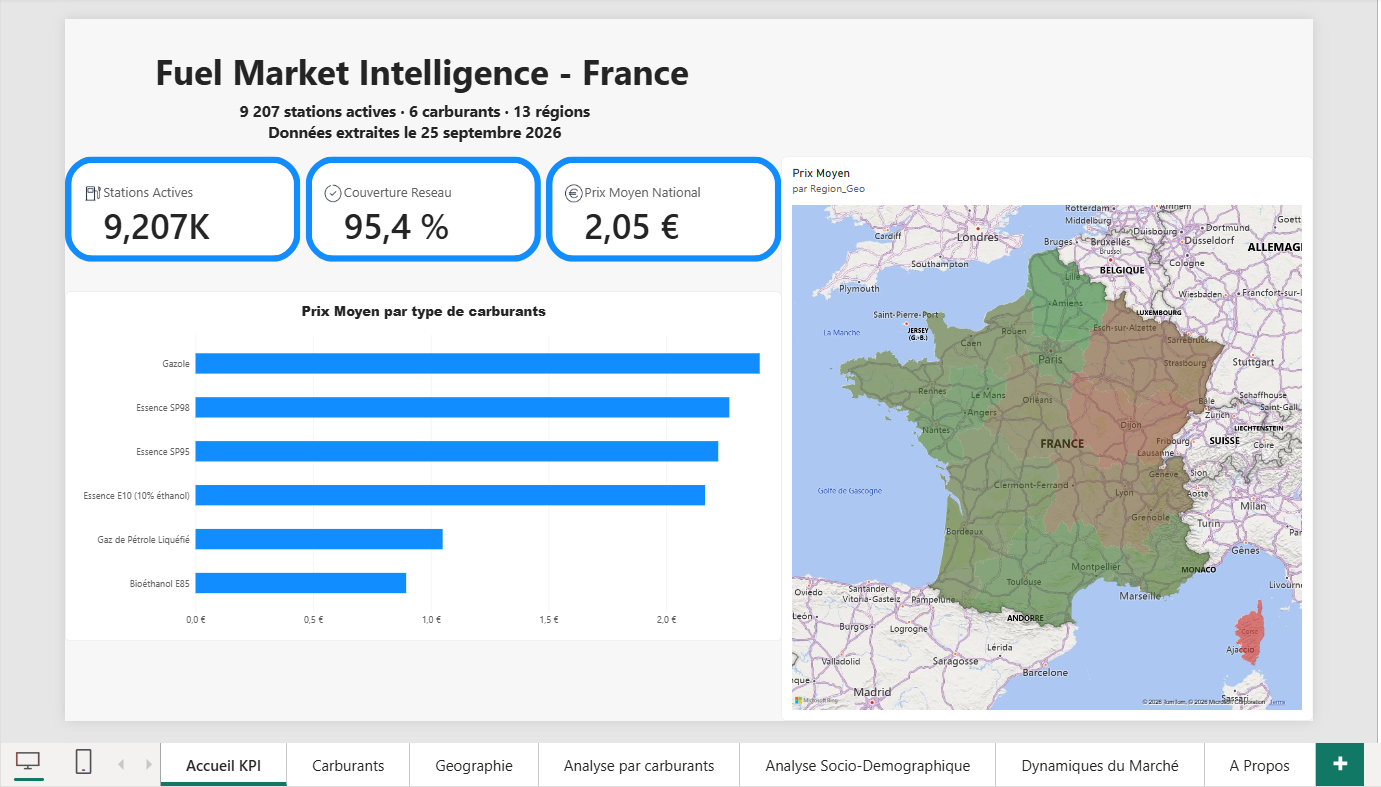

The dashboard page shown, as its layout file describes it:
{"tool":"powerbi","page":{"name":"Accueil KPI","canvas":[1920,1080],"ordinal":0},"visuals":[{"type":"cardVisual","fields":{"Data":["Mesures.Stations Actives","Mesures.Couverture Reseau","Mesures.Prix Moyen"]},"box":[0,211.7,1102.1,162.9],"z":3000},{"type":"clusteredBarChart","title":"Prix Moyen par type de carburants","fields":{"Category":["Dim_Carburant.Libelle"],"Y":["Table.Prix Moyen National"]},"box":[0,419.8,1102.1,537.5],"z":3001},{"type":"textbox","box":[150,74,300,300],"z":3002},{"type":"textbox","box":[139,45,840,104],"z":3003},{"type":"textbox","box":[839.7,0,1080.4,150.2],"z":3004},{"type":"textbox","box":[129,125,818,163],"z":3005},{"type":"filledMap","fields":{"Category":["Dim_Station.Region_Geo"]},"box":[1102,212,818,868],"z":3006}]}

Visuals, with their boxes on the page's 1920x1080 design canvas (x1, y1, x2, y2). These are canvas units, not pixel positions in the 1381x787 screenshot, which may show the page scaled, cropped or inside an application window:
cardVisual - Mesures.Stations Actives x Mesures.Couverture Reseau: [0,212,1102,375]
"Prix Moyen par type de carburants" clusteredBarChart: [0,420,1102,957]
textbox: [150,74,450,374]
textbox: [139,45,979,149]
textbox: [840,0,1920,150]
textbox: [129,125,947,288]
filledMap - Dim_Station.Region_Geo: [1102,212,1920,1080]
